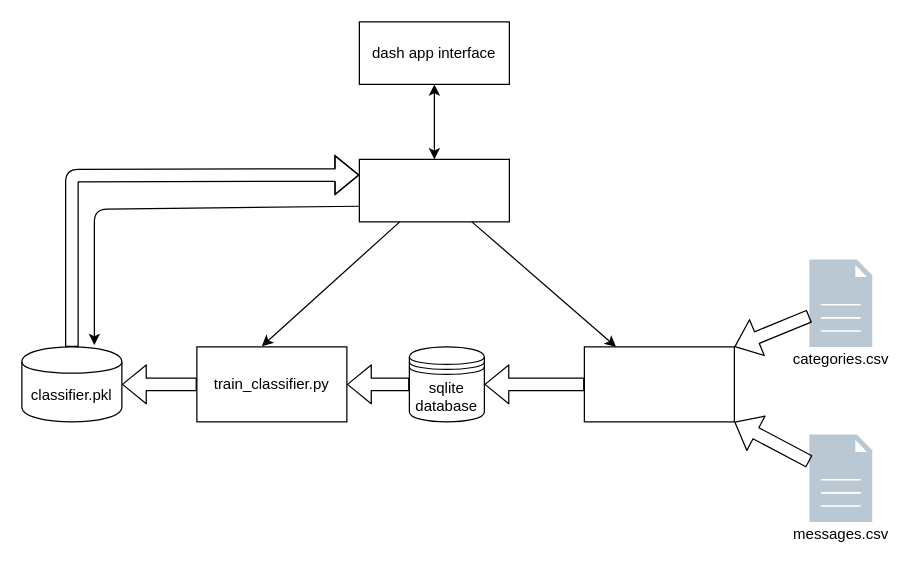
The diagram is 919 pixels wide and 569 high, and some of its shapes have lost their labels. The shapes that lost their labels are listed below. From the top down, each one's centre as x and y in pixels, then its label:
At point 433,190: "app.py".
At point 658,384: "process_data.py".
